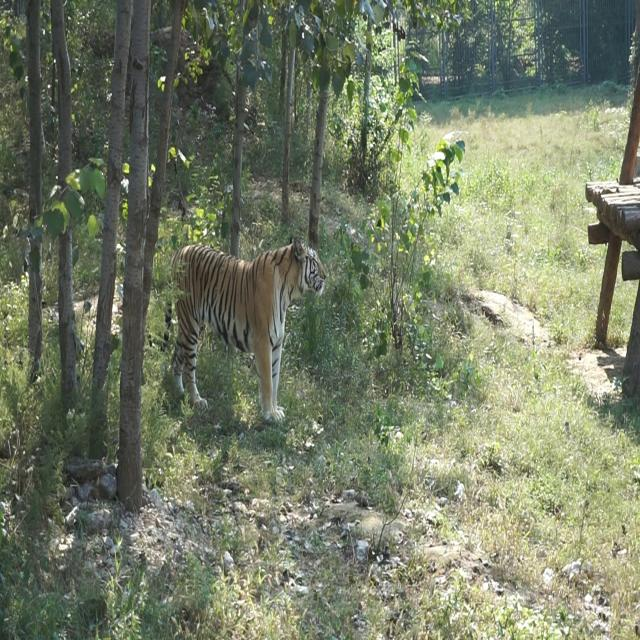Tiger: (154, 232, 342, 437)
